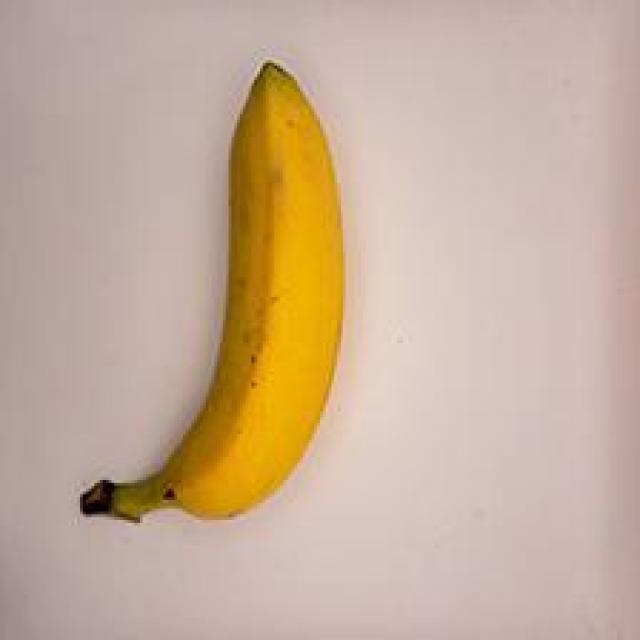Ripe: (69, 47, 356, 546)
